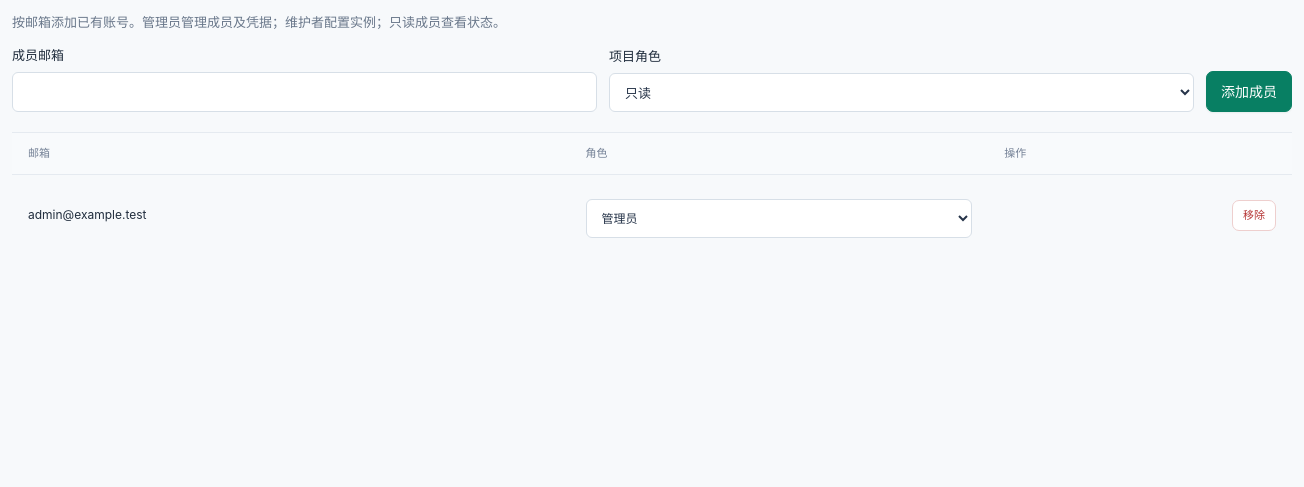
Test: adds members by email and preserves last-administrator errors
Expected: the text "admin@example.test" is shown, [12,175,570,256]
Type "new@example.test" into the field labelled "成员邮箱".
click(304, 92); type("new@example.test")  # box [12,72,597,112]
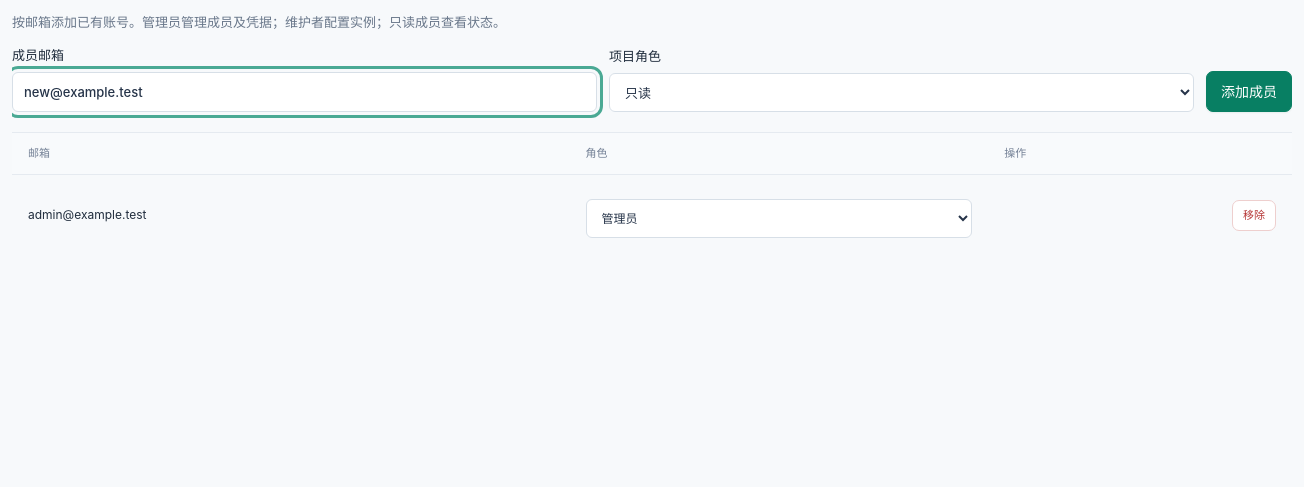
Select "维护者" in the dropdown labelled "项目角色" at (902, 93), box [609,73,1194,112]
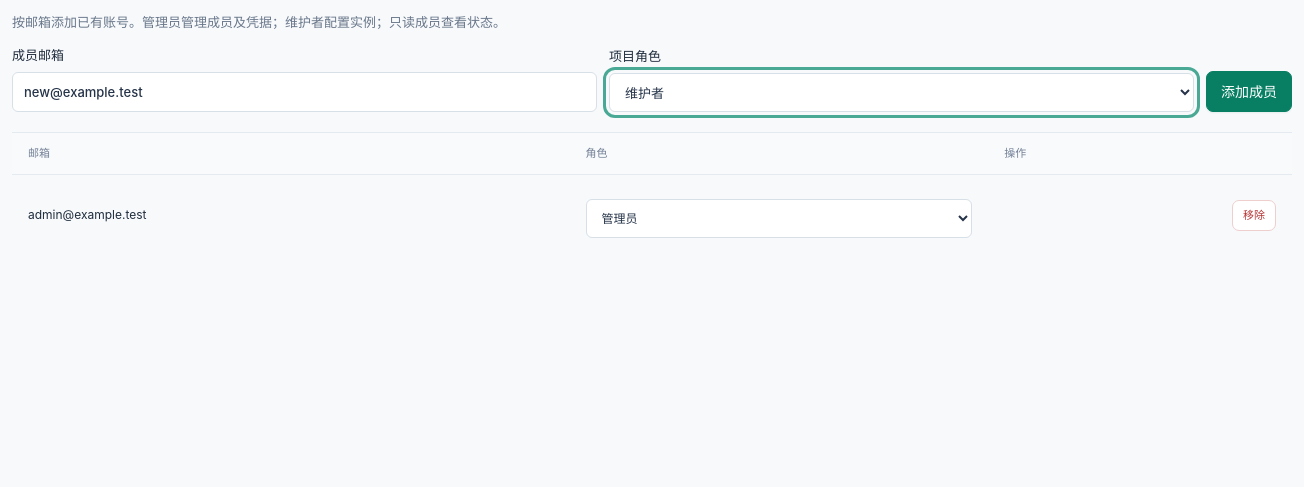
Click the button "添加成员".
click(1249, 92)  # box [1206,71,1292,112]
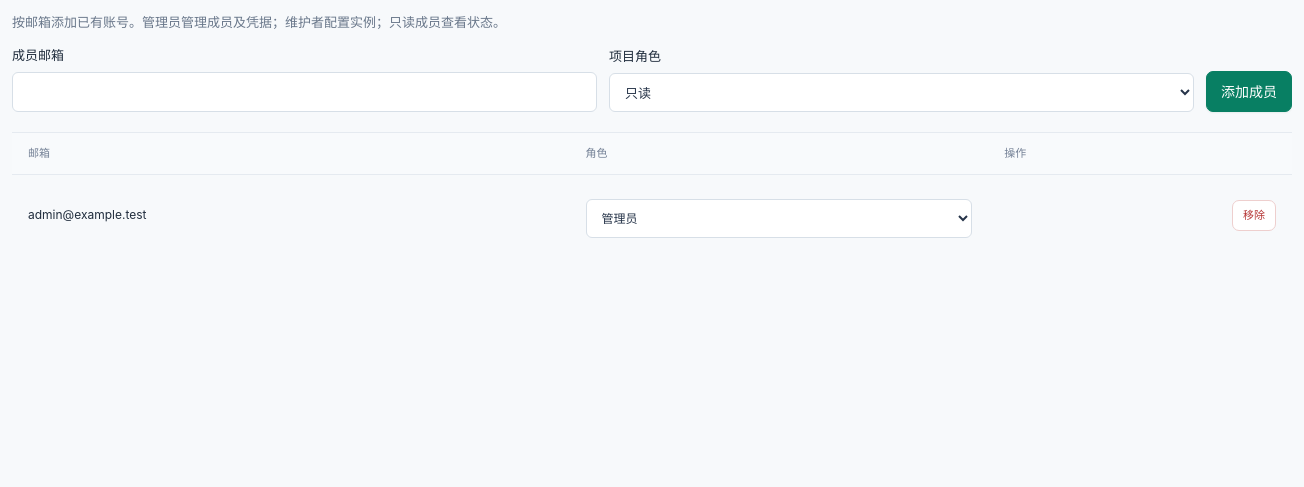
Click the button "移除".
click(1254, 215)  # box [1232,200,1276,231]
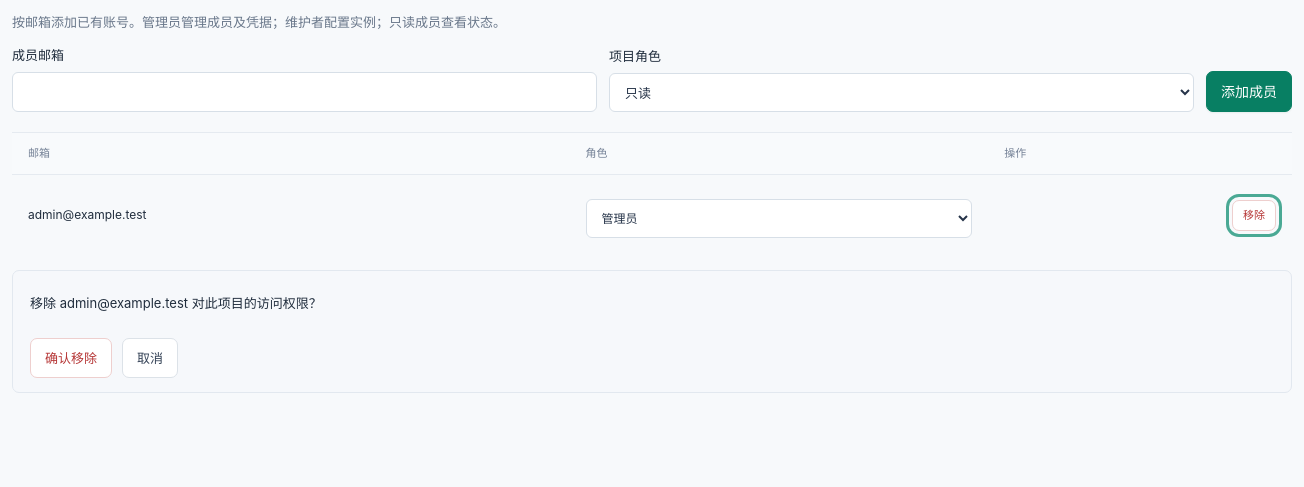
Click the button "确认移除".
click(71, 358)  # box [30,338,112,378]
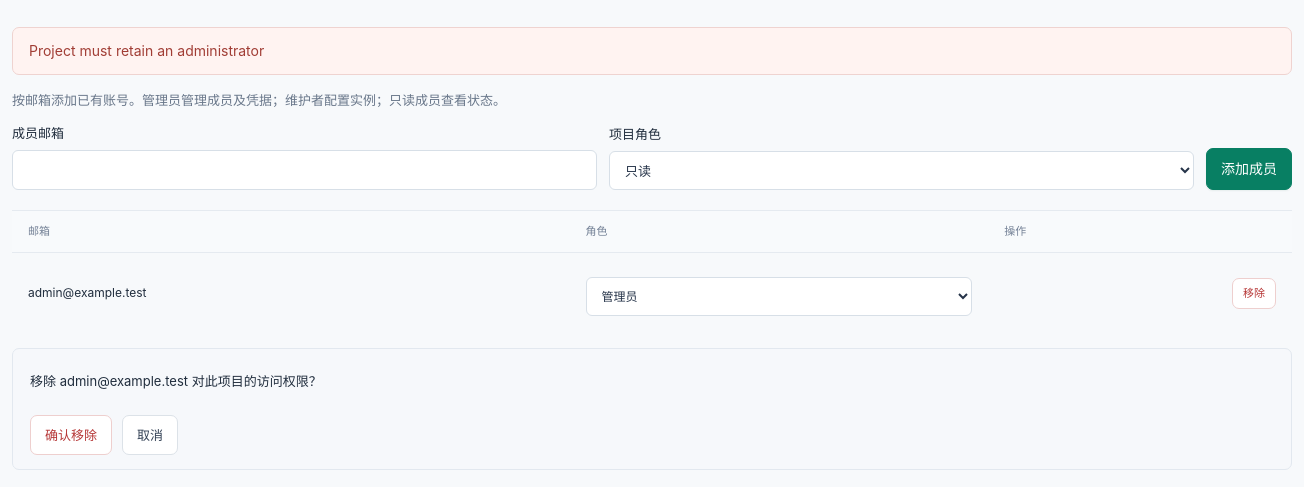
Now the button "确认移除" is shown, box [30,415,112,455]
Now the message reads "Project must retain an administrator", box [29,42,264,59]
